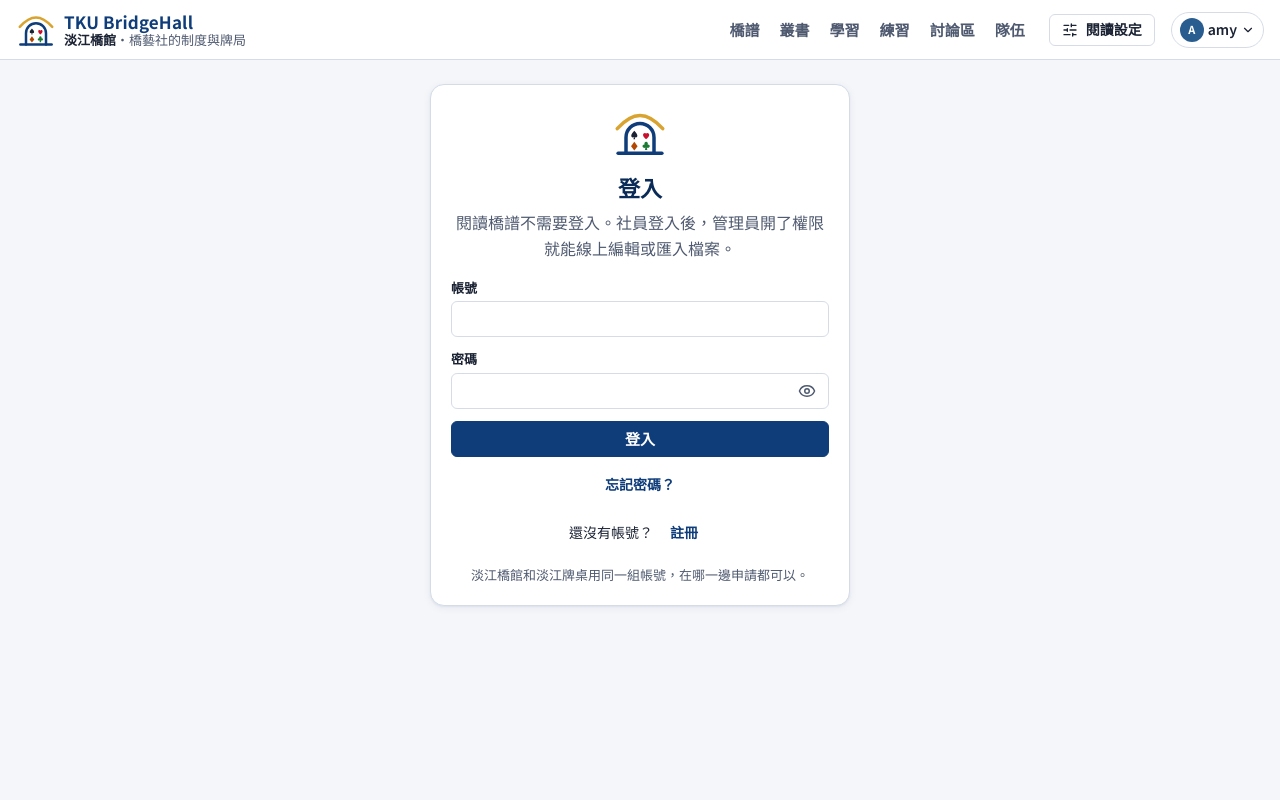
Test: signing in and registering › sends a registration from this site for approval
Click the button "註冊" at (684, 533), box [657, 517, 711, 549]
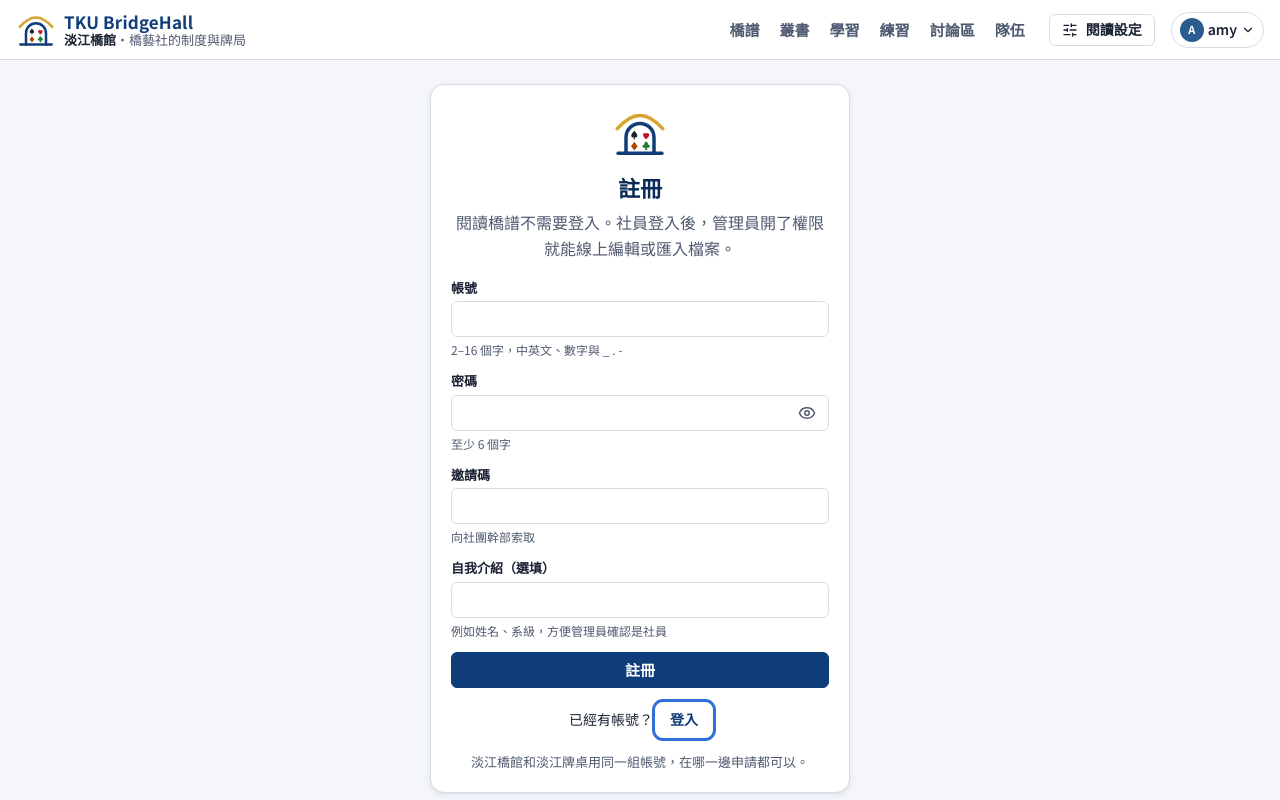
Type "amy" into the field labelled "帳號 2–16 個字，中英文、數字與 _ . -" at (640, 319), box [451, 301, 829, 337]
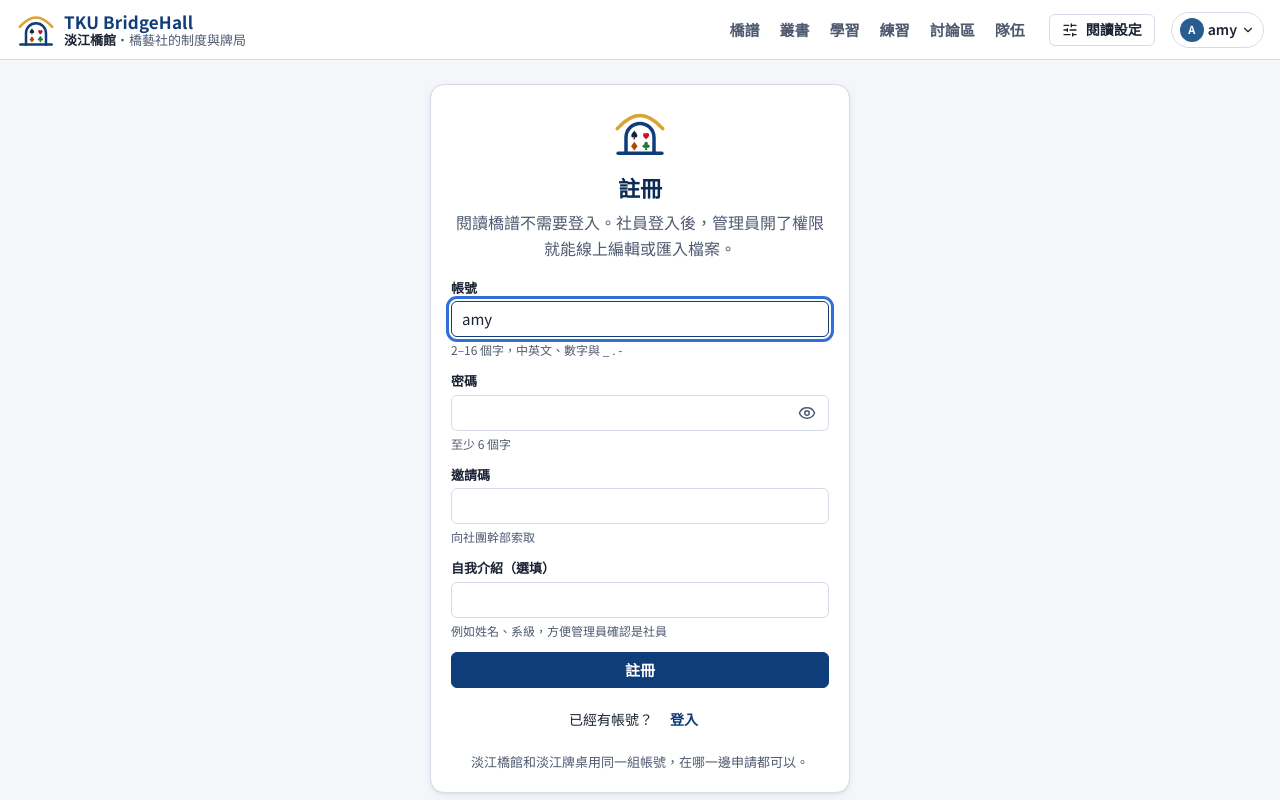
Type "secret1" into the password field labelled "密碼 至少 6 個字" at (640, 413), box [451, 395, 829, 431]
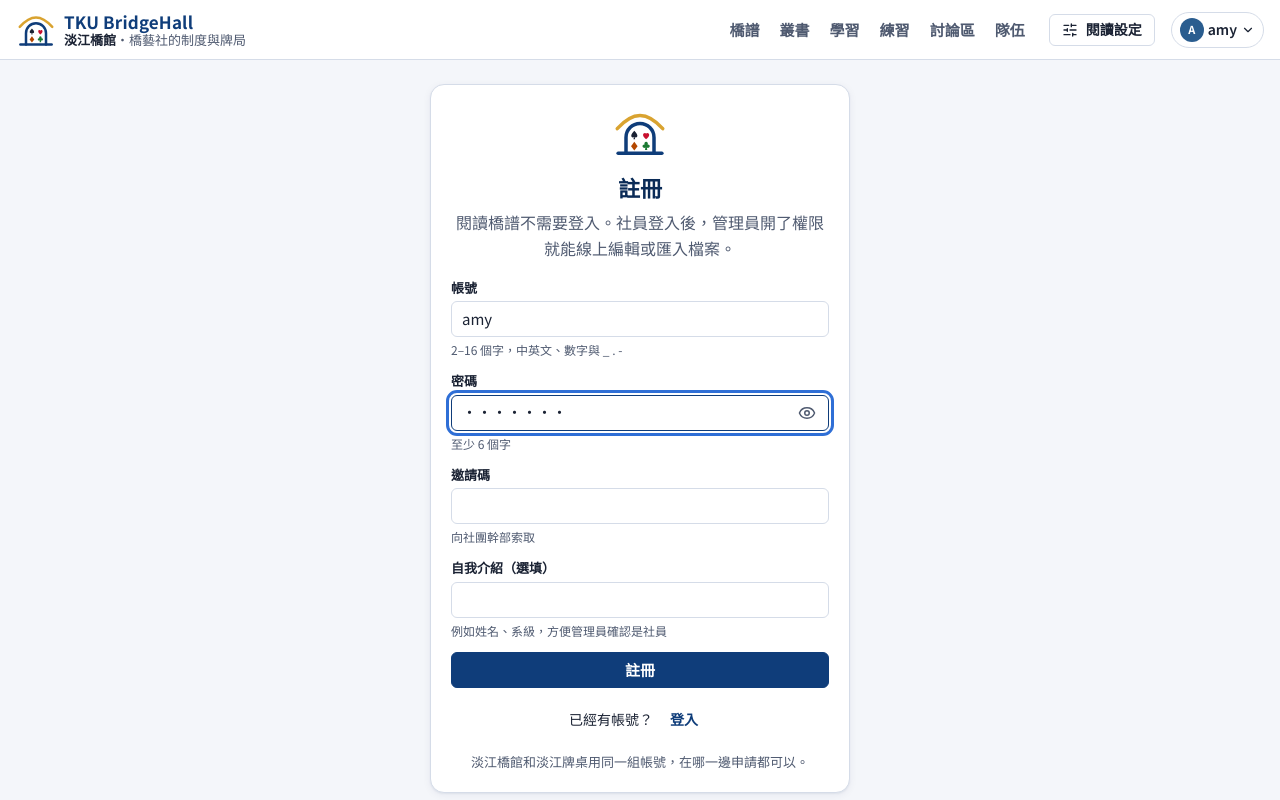
Type "tku" into the field labelled "邀請碼 向社團幹部索取" at (640, 506), box [451, 488, 829, 524]
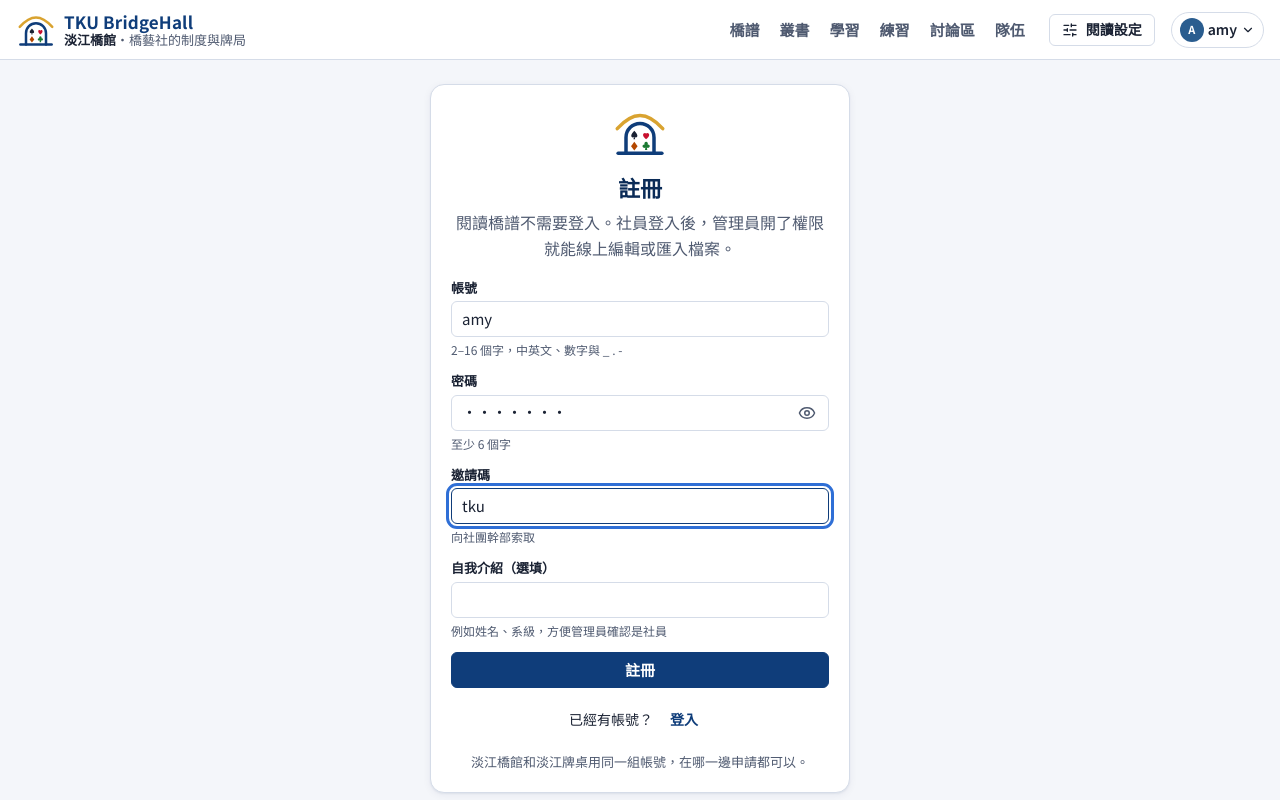
Type "王小美" into the field labelled "自我介紹（選填） 例如姓名、系級，方便管理員確認是社員" at (640, 600), box [451, 582, 829, 618]
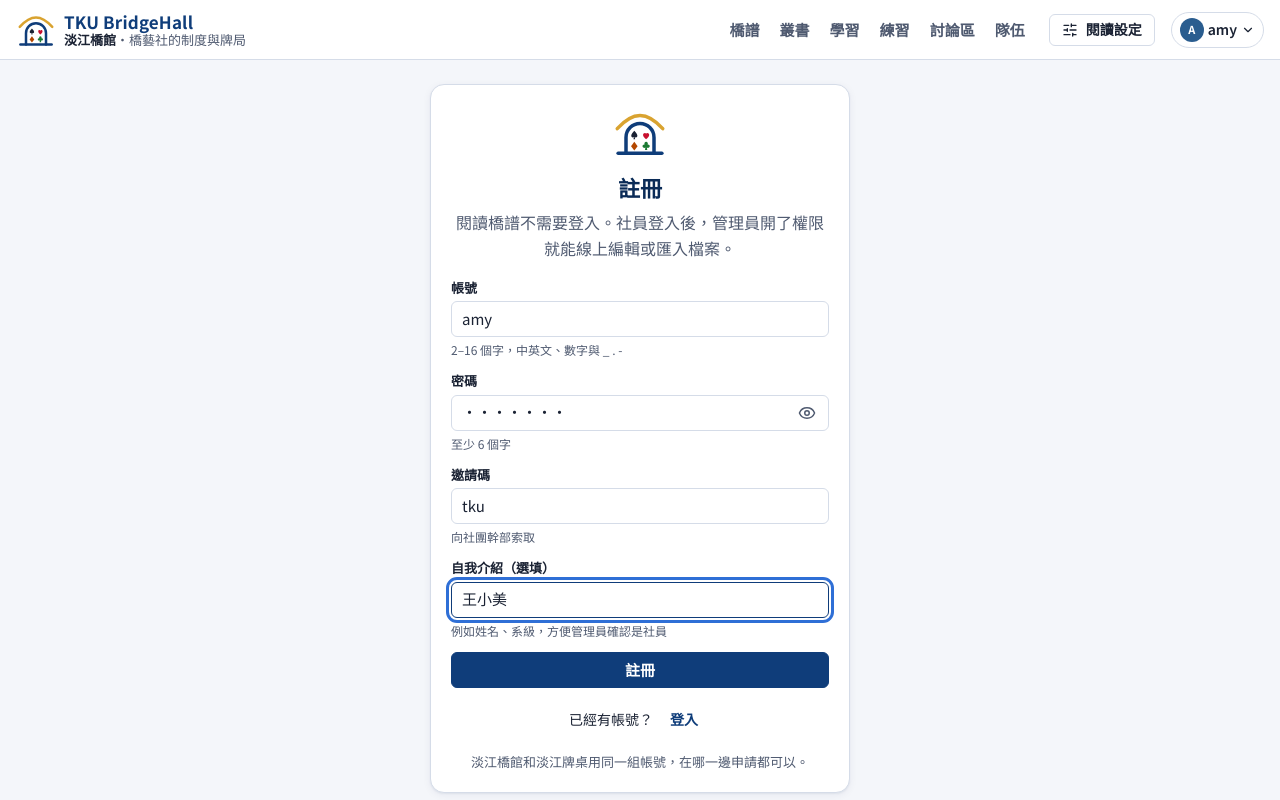
Click the button "註冊" at (640, 670), box [451, 652, 829, 688]
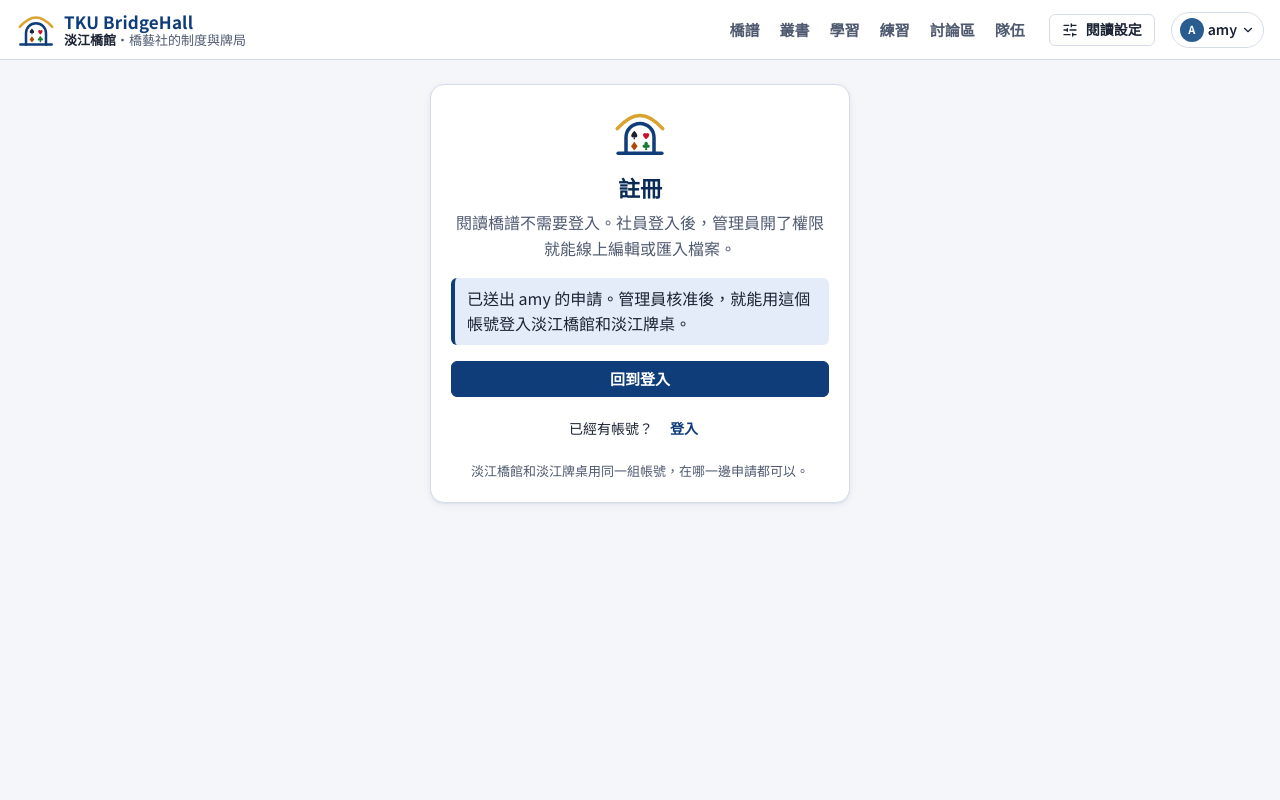
Now the message shows "管理員核准後，就能用這個帳號登入淡江橋館和淡江牌桌", box [467, 286, 810, 335]
